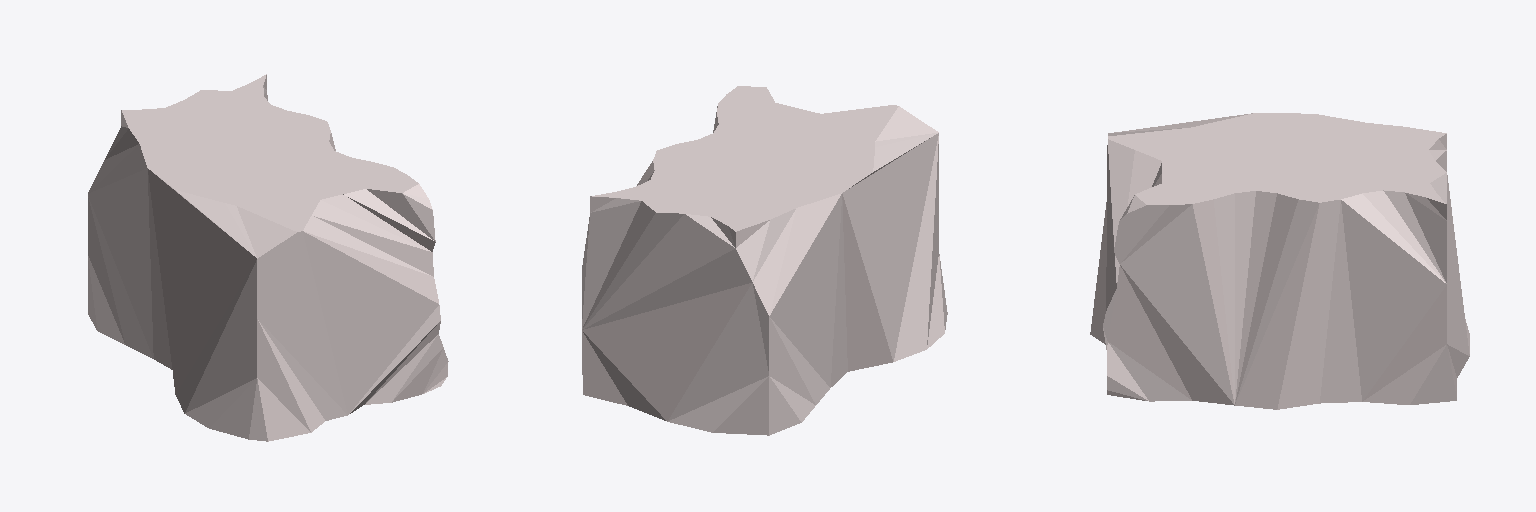
File: JINHEUK.obj
The picture shows the model from 3 angles: view 1: azimuth 30°, elevation 25°; view 2: azimuth 150°, elevation 25°; view 3: azimuth 270°, elevation 25°; orthographic projection.
Parts seen in each view (by area): view 1: JINHEUK; view 2: JINHEUK; view 3: JINHEUK.
Boxes of the visible parts, box(x1,y1,x2,y2) form: JINHEUK: box(88, 74, 448, 441); JINHEUK: box(582, 86, 947, 435); JINHEUK: box(1090, 113, 1469, 409).
Size of the model in its own units: 3.47 by 2.81 by 4.95.